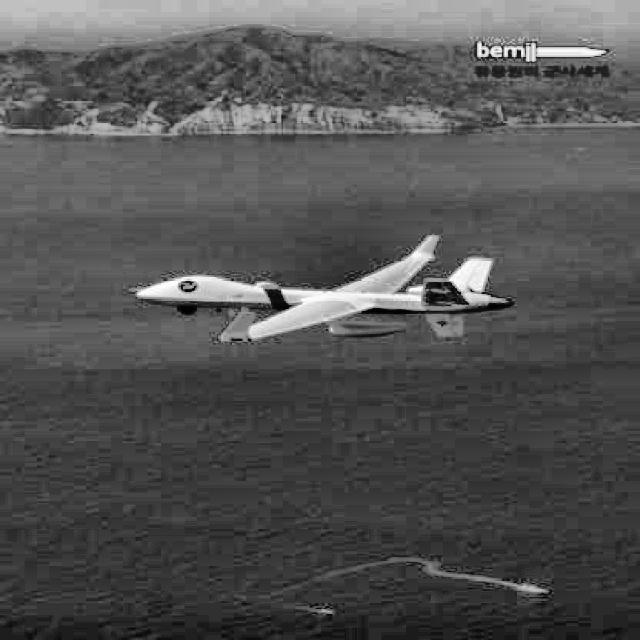MQ9: (128, 235, 514, 342)
